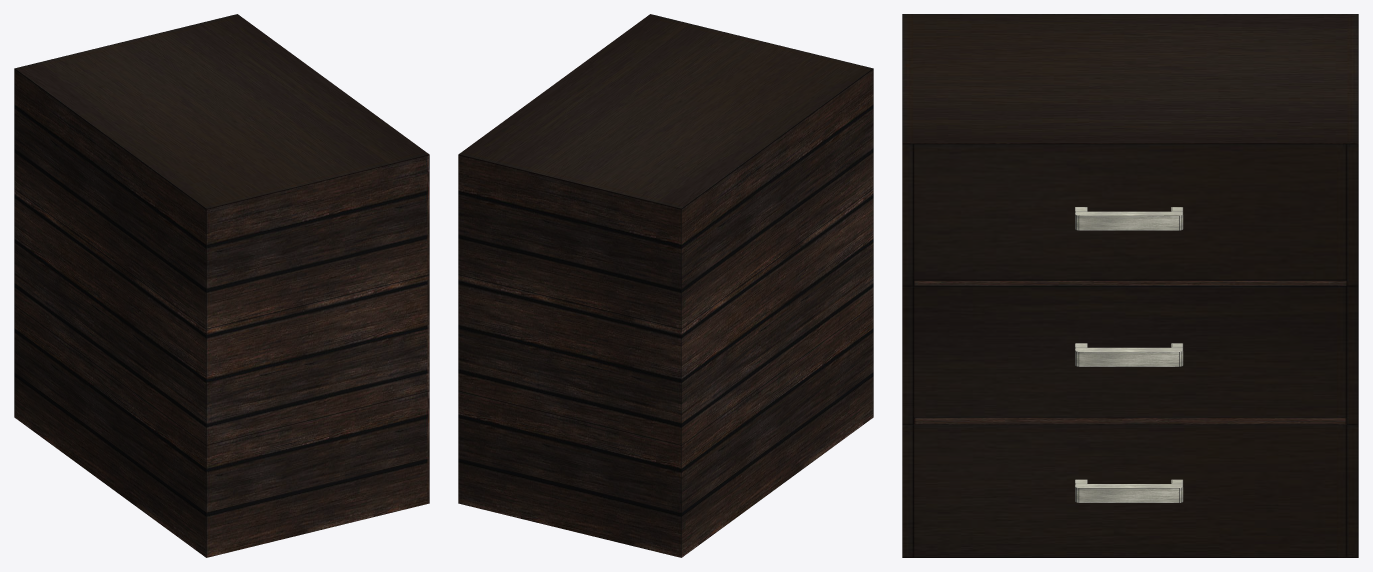
File: bedside_table_2.obj
3 views of the same model, side by side, from view 1: azimuth 30°, elevation 25°; view 2: azimuth 150°, elevation 25°; view 3: azimuth 270°, elevation 25° (orthographic). The views are drawn at different scales.
Visible parts, largest first — view 1: bedside_table_2; view 2: bedside_table_2; view 3: bedside_table_2.
Boxes of the visible parts, box(x1,y1,x2,y2) form: bedside_table_2: box(14, 14, 429, 557); bedside_table_2: box(458, 14, 873, 557); bedside_table_2: box(902, 14, 1358, 557).
Bounding box in the file's own units: 4.28 × 5.99 × 5.97.
Materials: 1 (1 with a texture image).
